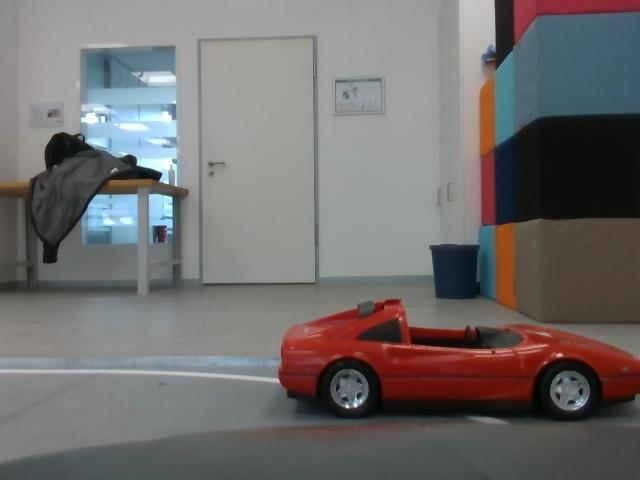car: (267, 292, 640, 426)
